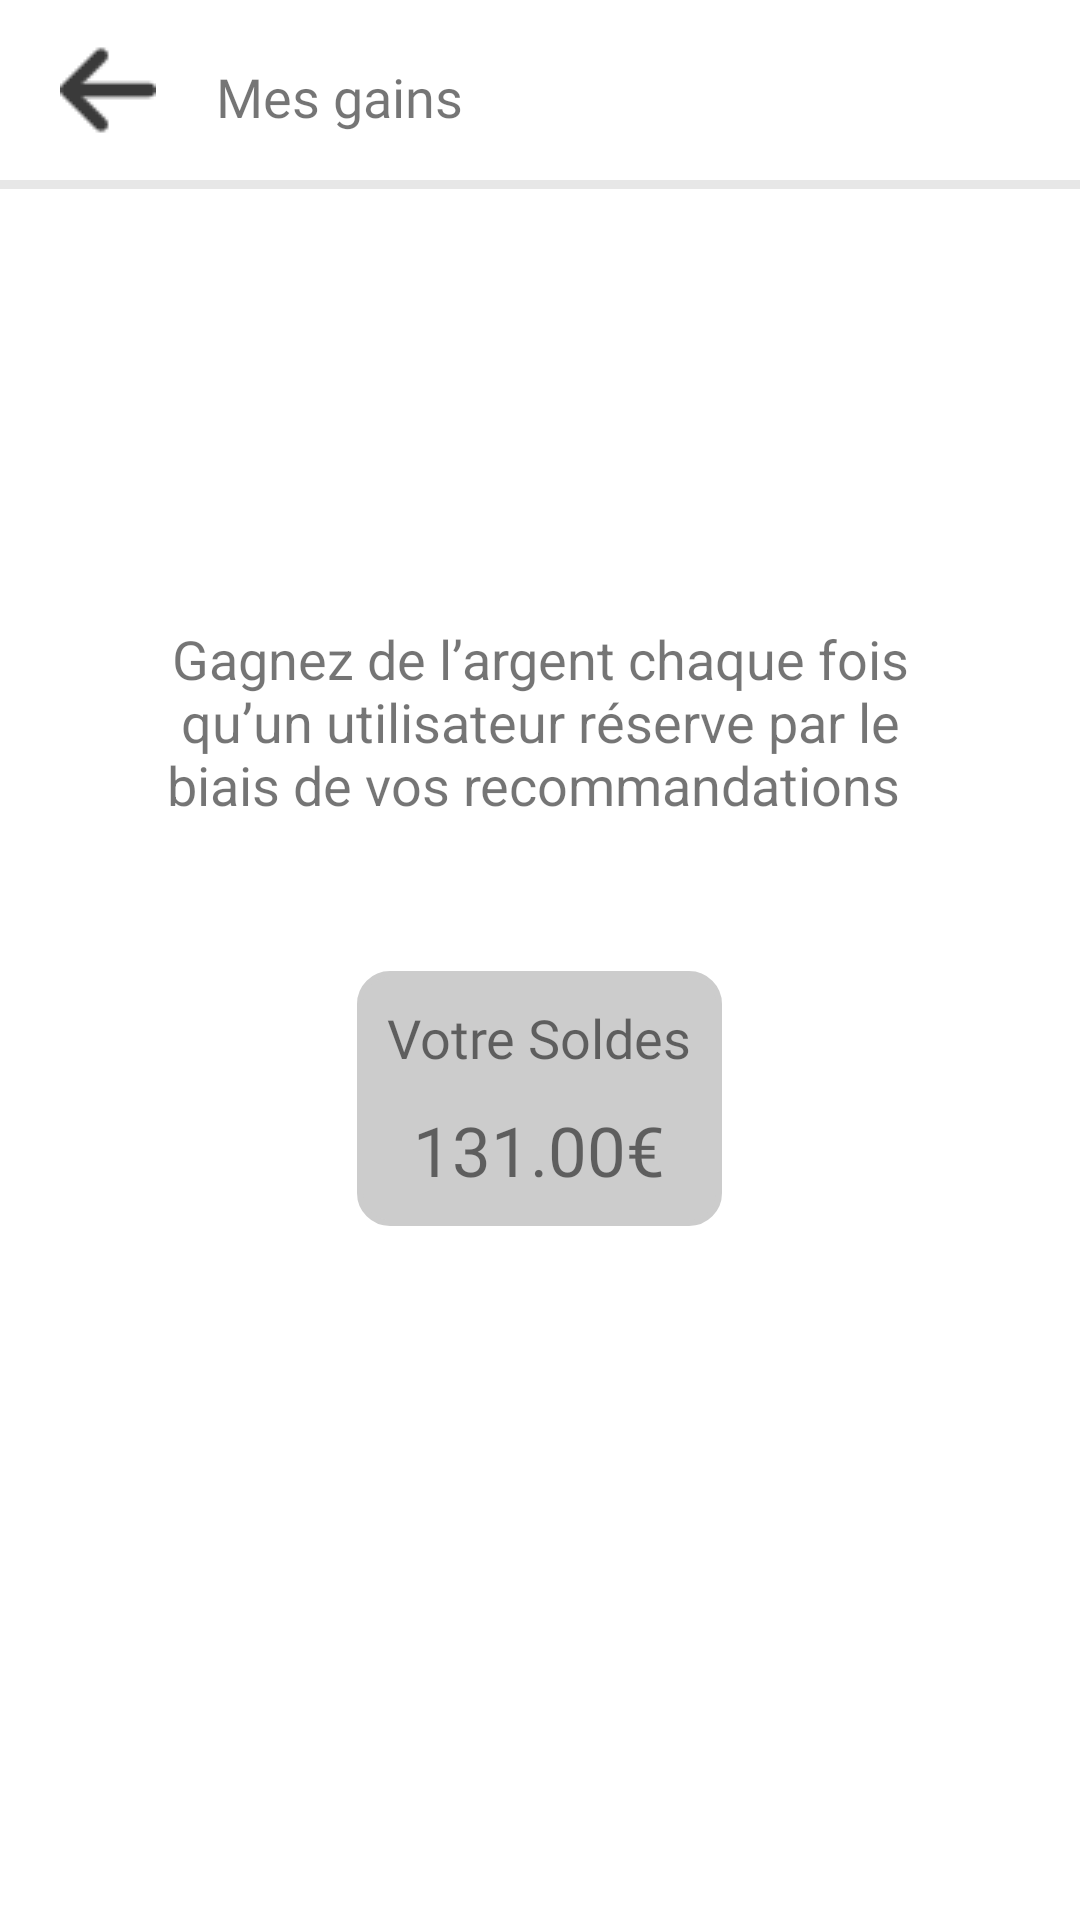

Icons on this 1080×1920 Android screen, each with the point to tap as (x=x, y=y):
arrow: (x=108, y=90)
